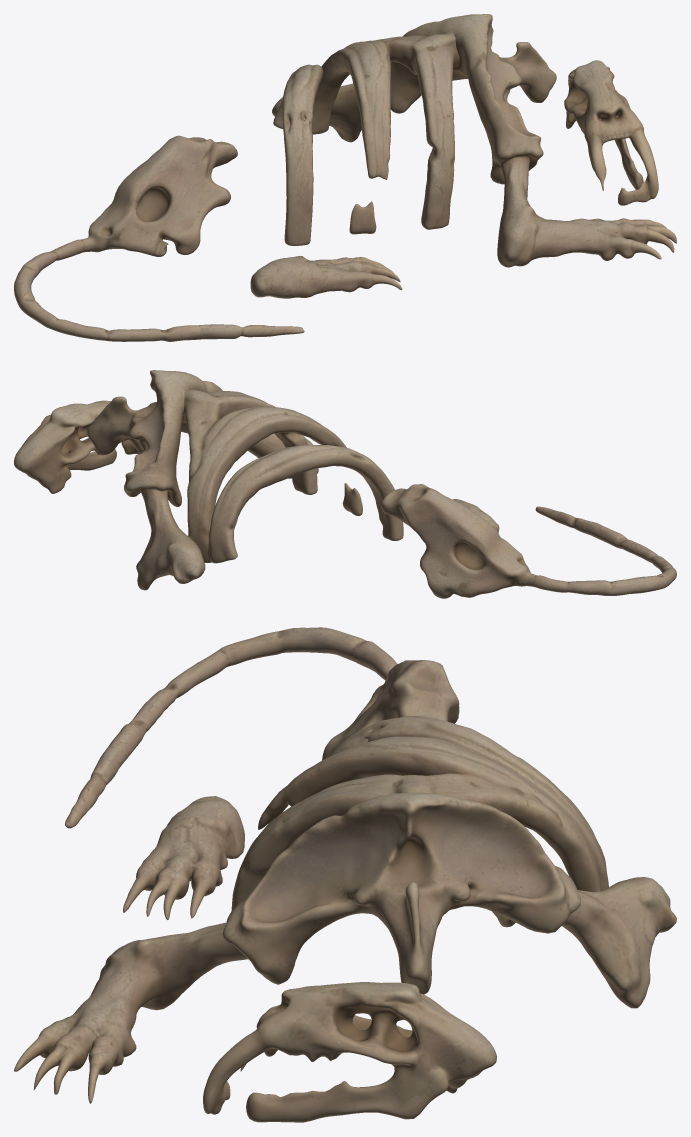
File: esqueleto_dragon.glb
The picture shows the model from 3 angles, top to bottom: view 1: azimuth 30°, elevation 25°; view 2: azimuth 150°, elevation 25°; view 3: azimuth 270°, elevation 25°; orthographic projection. The views are drawn at different scales.
Parts seen in each view (by area): view 1: tripo_node_3f1353ab; view 2: tripo_node_3f1353ab; view 3: tripo_node_3f1353ab.
Boxes of the visible parts, bbox=[...] form: tripo_node_3f1353ab: bbox=[14, 14, 676, 341]; tripo_node_3f1353ab: bbox=[14, 370, 676, 598]; tripo_node_3f1353ab: bbox=[14, 627, 676, 1122].
Bounding box in the file's own units: 99.92 × 24.85 × 59.79.
Materials: 1 (1 with a texture image).
